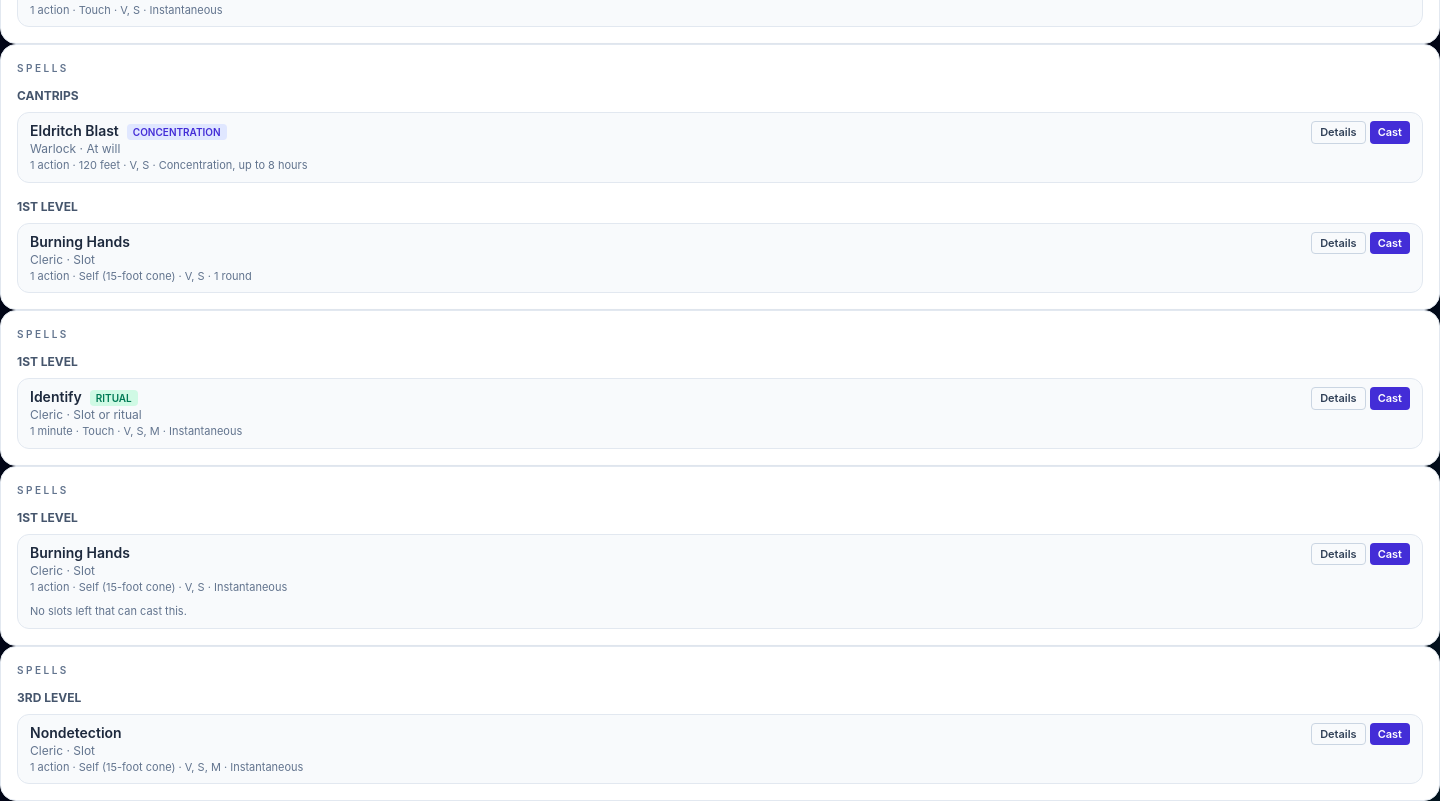
Scenario: SpellsWidget › says a costly component is consumed, and that a pouch can't replace it
The image size is (1440, 801).
(page scrolled)
Click the button "Details" in the row of "Nondetection" at (1338, 734), box [1311, 722, 1366, 745]
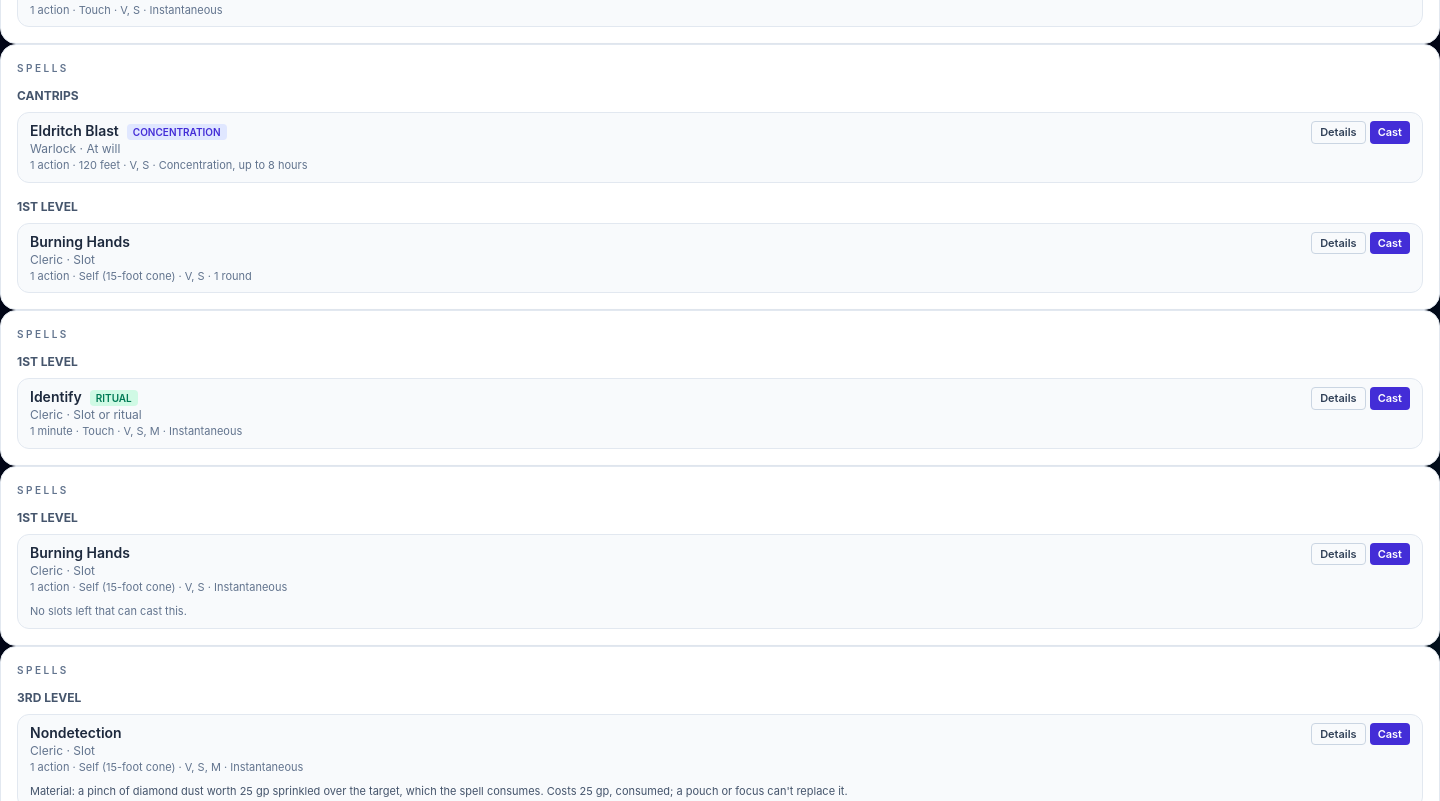
Result: the text "Costs 25 gp, consumed; a pouch or focus can't replace it." is shown at [547, 784, 848, 798]
Click the button "Cast" in the row of "Nondetection" at (1390, 734), box [1370, 722, 1410, 745]
(page scrolled)
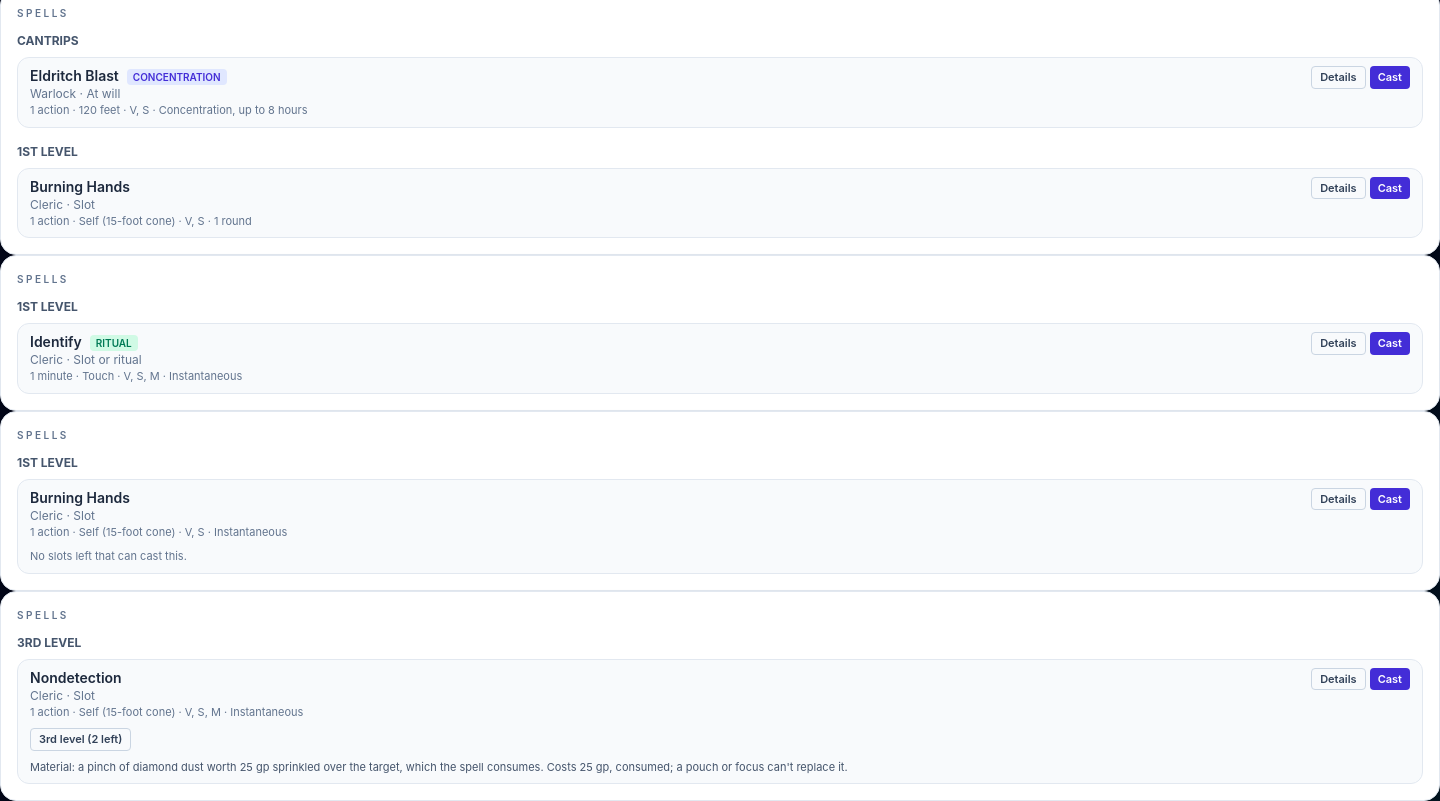
Click the button "3rd level (2 left)" at (81, 739), box [30, 728, 131, 750]
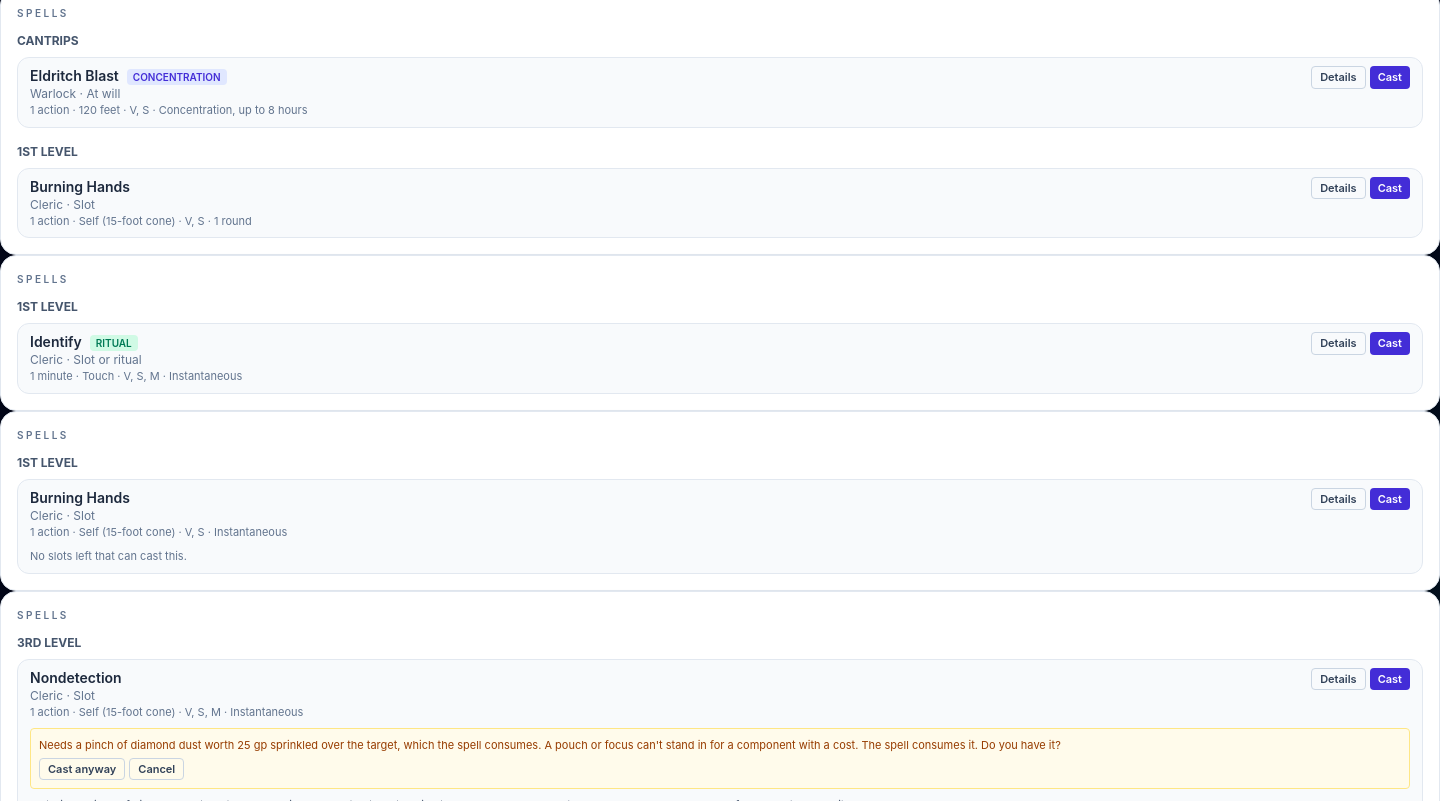
Result: the text "The spell consumes it. Do you have it?" is shown at [39, 738, 1061, 752]
